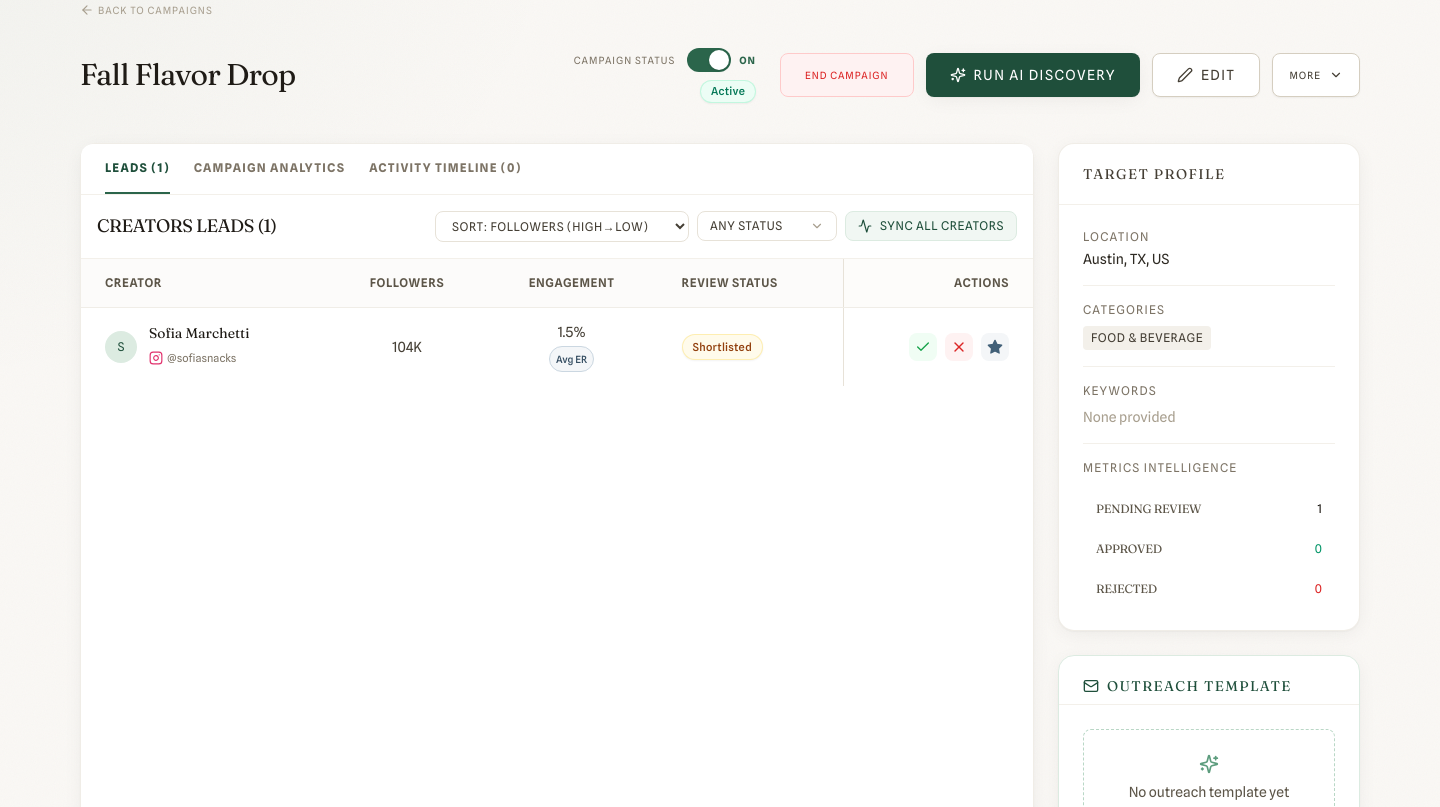
Test: CampaignDetail approve › reports a failed send with the reason, reloads the leads and keeps the dialog for a retry
Click the button titled "Approve & Send Outreach".
click(923, 346)  # box [909,332,937,360]
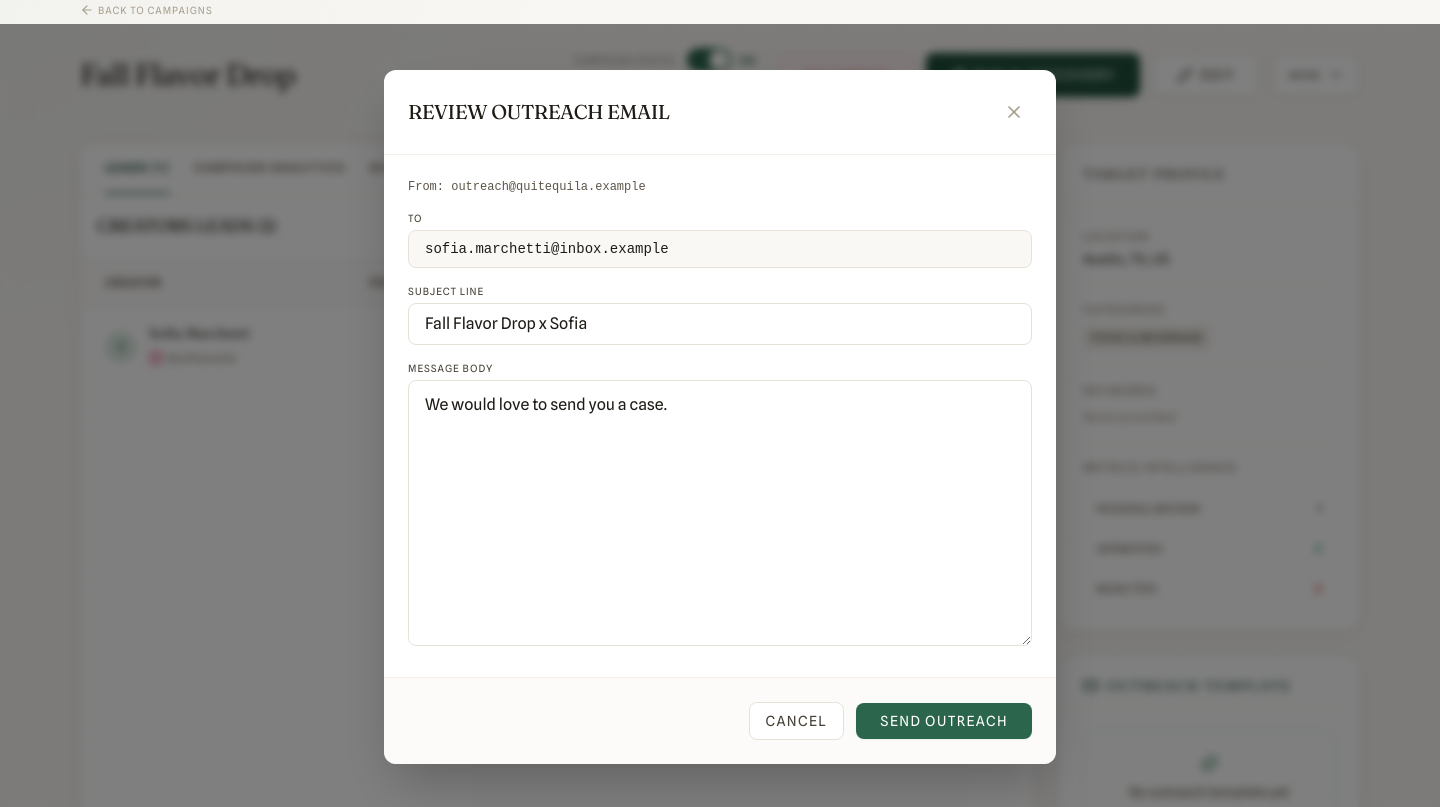
Expected: the text "From: outreach@quitequila.example" is shown, [408,180,646,194]
Click the button "Send Outreach".
click(944, 721)  # box [856,703,1032,739]
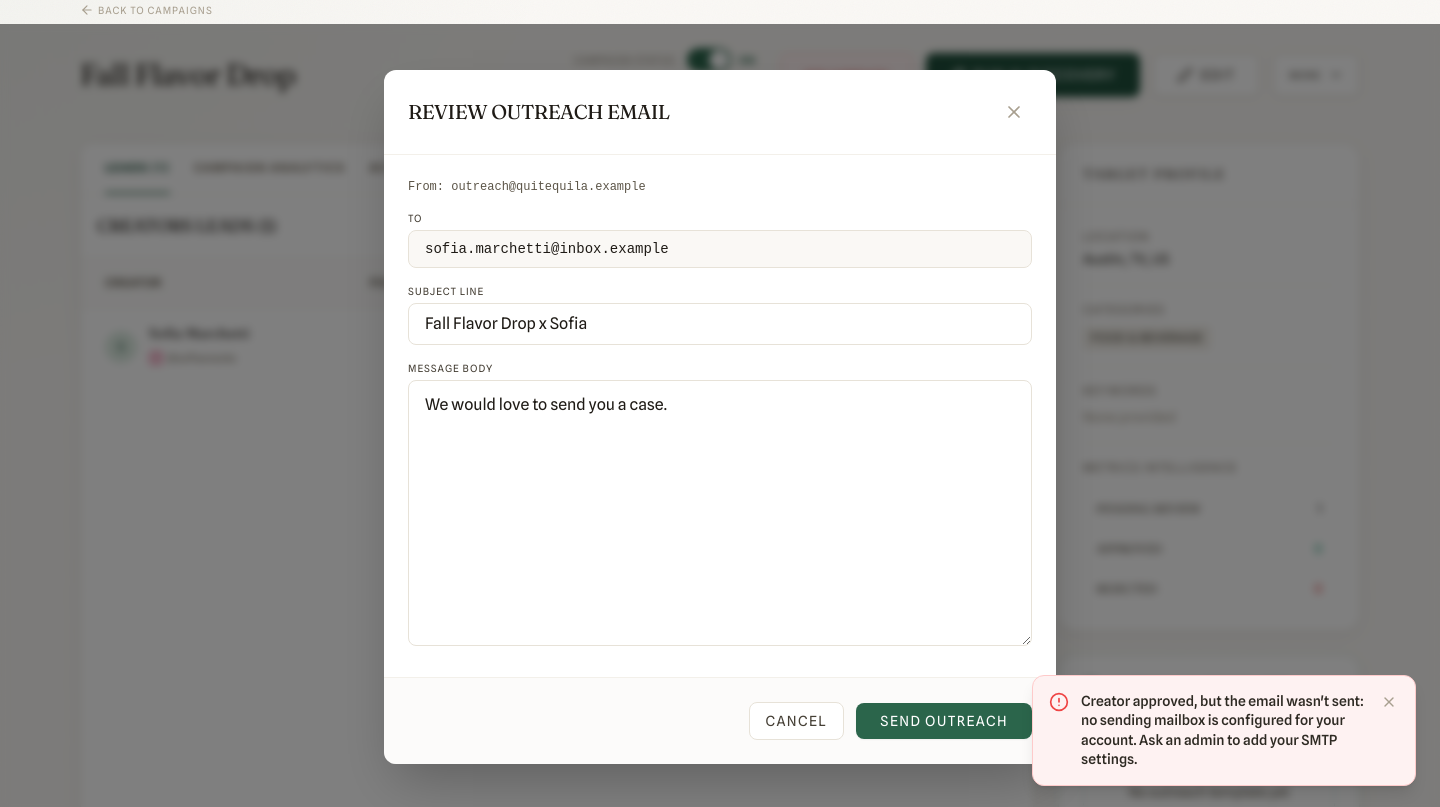
Expected: the button "Send Outreach" is enabled, [856,703,1032,739]
Expected: the text "Creator approved, but the email wasn't sent: no sending mailbox is configured for your account. Ask an admin to add your" is shown, [1081,693,1364,767]
Expected: the text "Creator approved, but the email wasn't sent: no sending mailbox is configured for your account. Ask an admin to add your" is shown once, [1081,692,1367,769]
